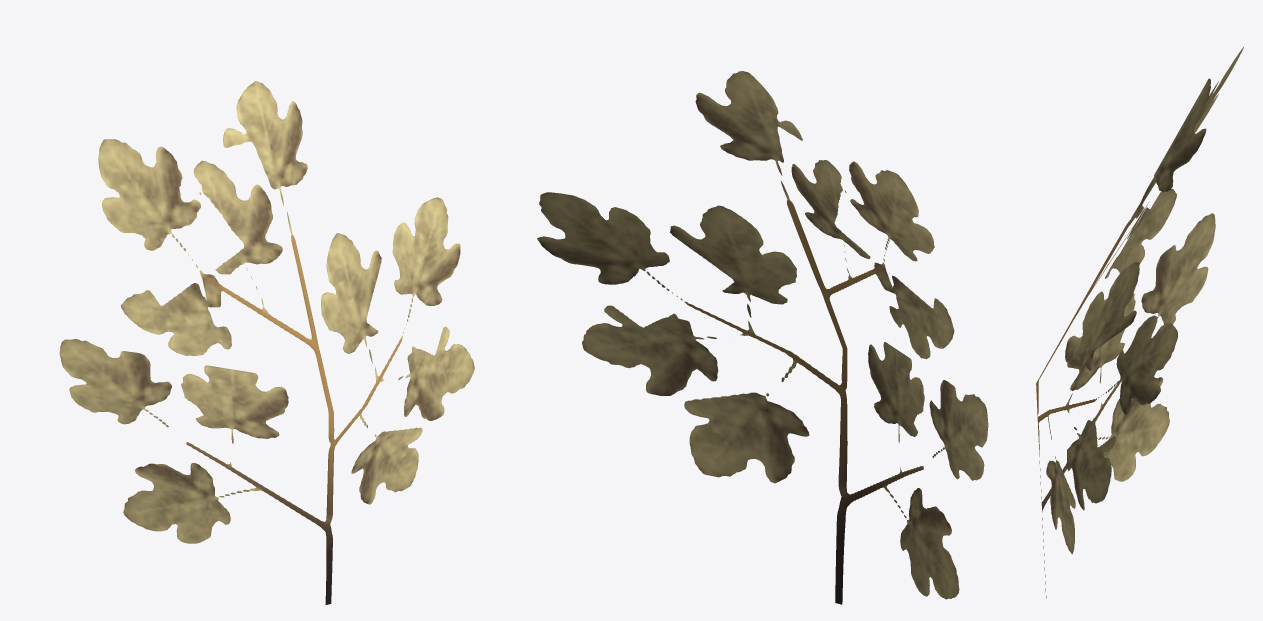
Rendered from rama_planta_1.fbx.
3 views of the same model, side by side, from view 1: azimuth 30°, elevation 25°; view 2: azimuth 150°, elevation 25°; view 3: azimuth 270°, elevation 25° (orthographic). The views are drawn at different scales.
Visible parts, largest first — view 1: rama_planta_1; view 2: rama_planta_1; view 3: rama_planta_1.
Boxes of the visible parts, x1,y1,x2,y2 form: rama_planta_1: (59,81,474,604); rama_planta_1: (537,71,988,604); rama_planta_1: (1036,47,1243,598).
Size of the model in its own units: 88.35 by 106 by 35.17.
